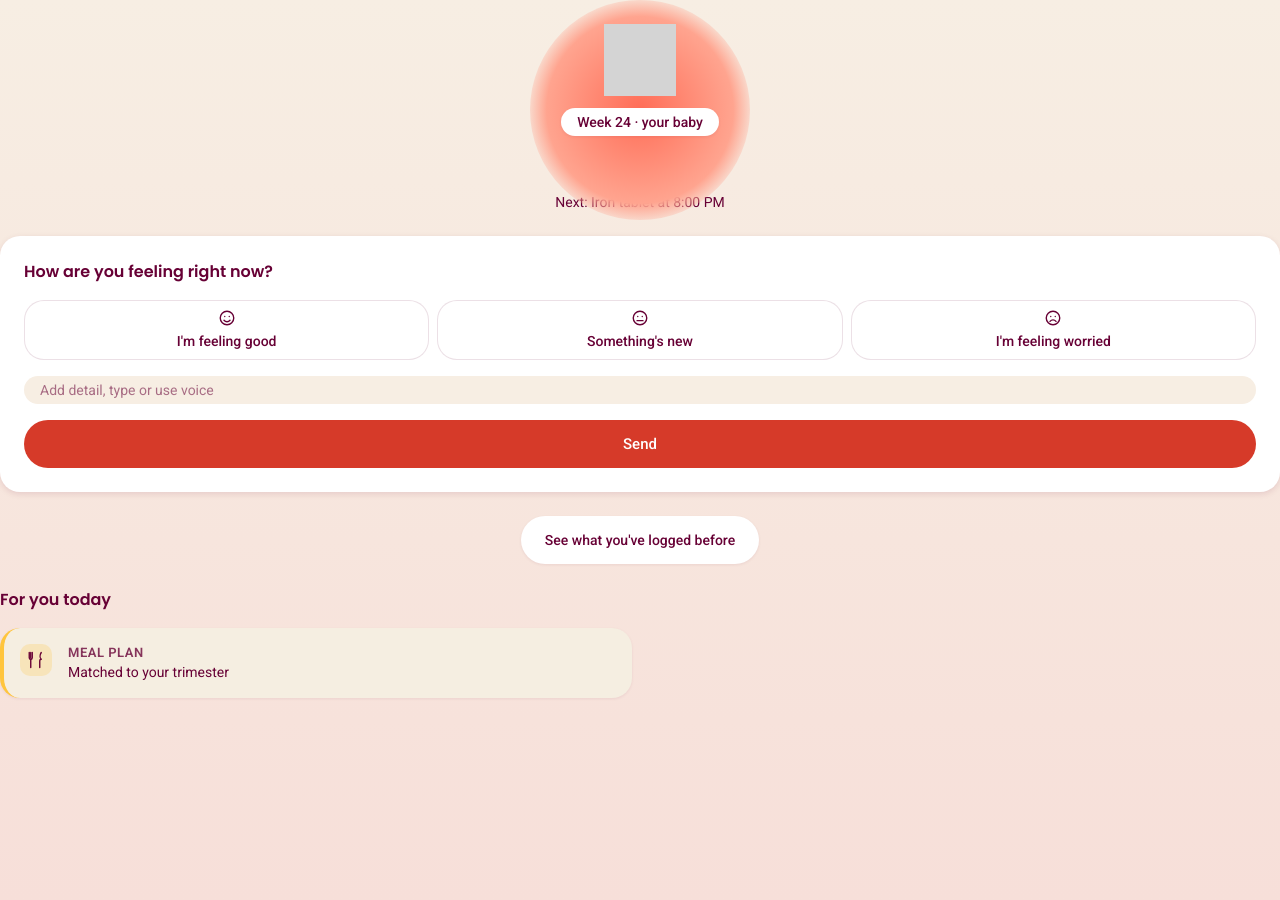
Test: TodayScreen › opens the medicine quick action sheet when the dose reminder is tapped
Click the button with test id "next-reminder". click: x=640, y=202
box: [0,192,1279,212]
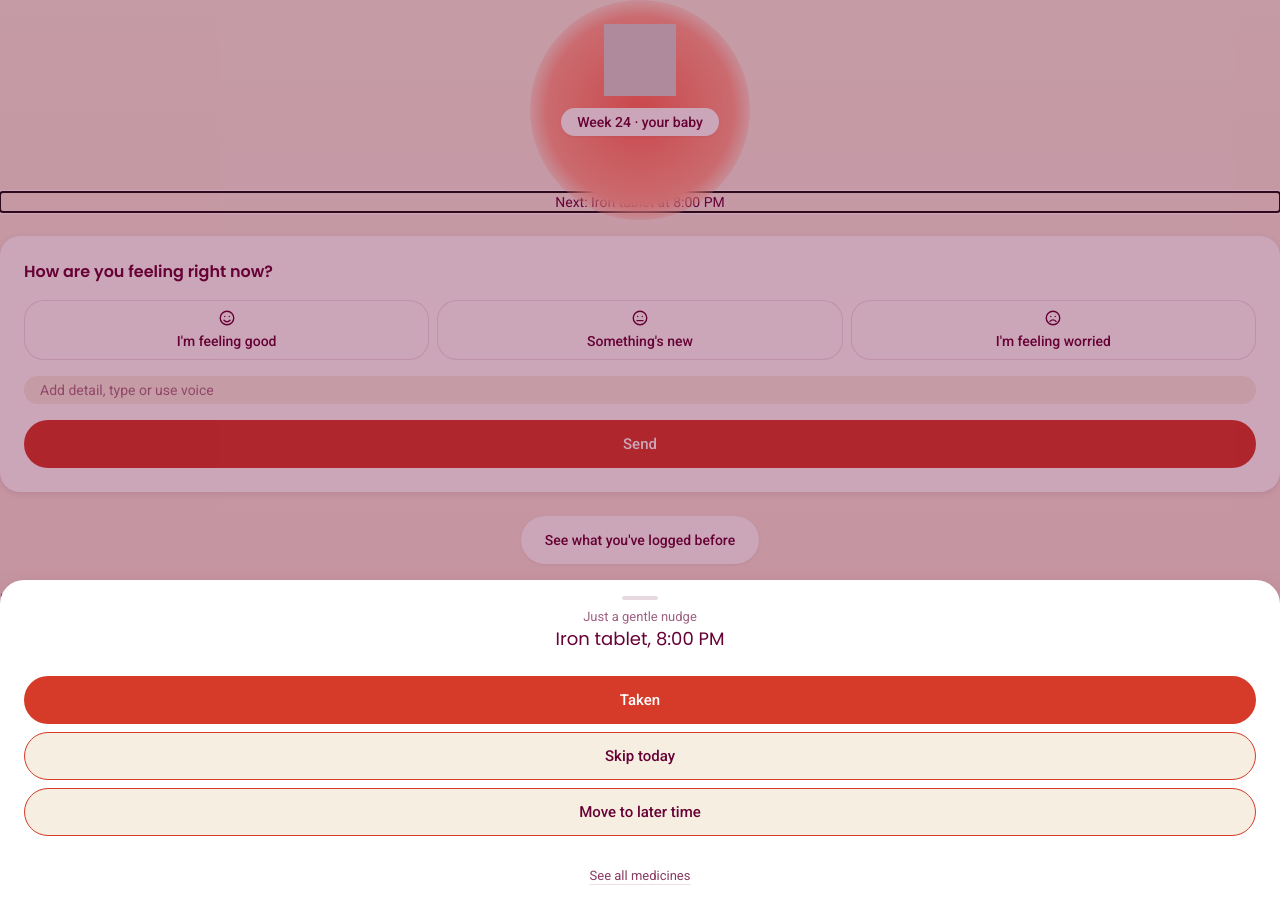
Expected: the heading "Iron tablet, 8:00 PM" is shown, [556,626,724,651]
